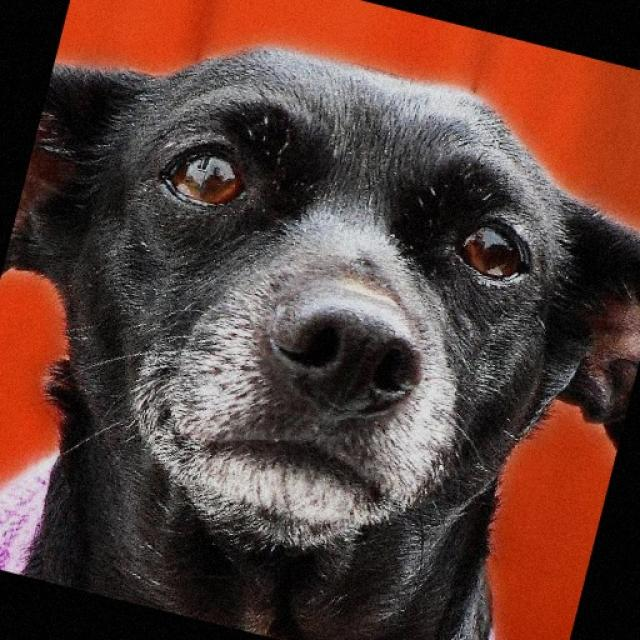sad: (19, 32, 640, 574)
